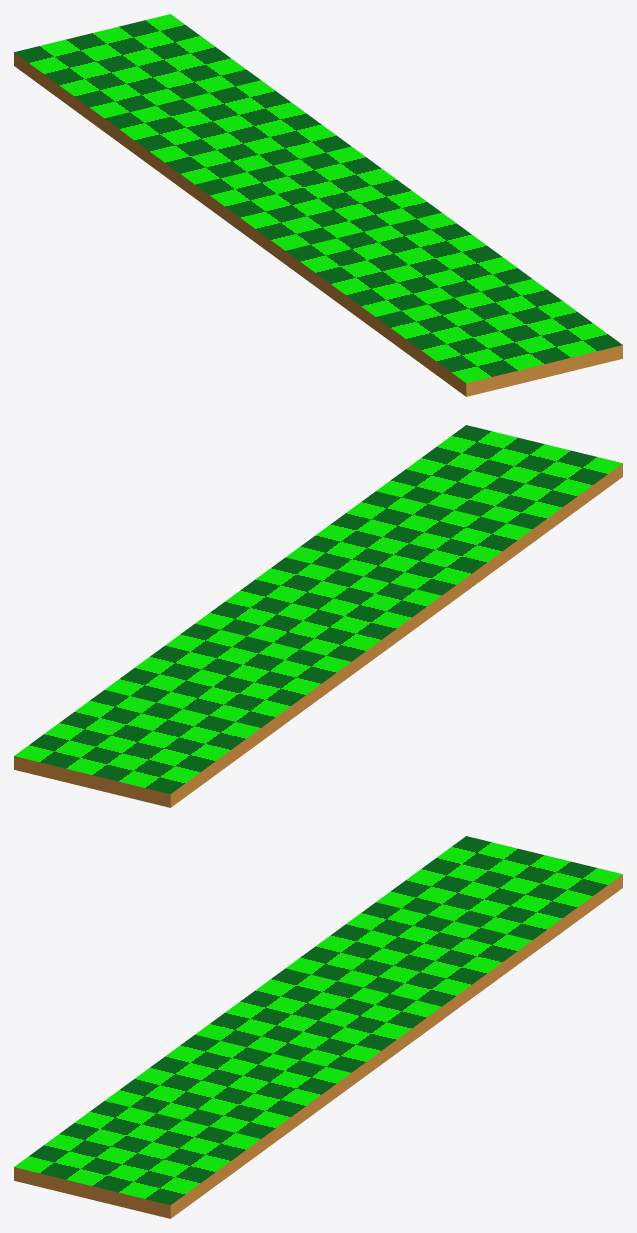
The picture shows the model from 3 angles, top to bottom: view 1: azimuth 30°, elevation 25°; view 2: azimuth 150°, elevation 25°; view 3: azimuth 330°, elevation 25°; orthographic projection.
Visible parts, largest first — view 1: Cube, Cube.003, Cube.002, Cube.004, Cube.001; view 2: Cube.003, Cube, Cube.002, Cube.001, Cube.004; view 3: Cube, Cube.003, Cube.002, Cube.004, Cube.001.
Part boxes in pixels (bbox=[...]): Cube: bbox=[376, 279, 622, 396]; Cube.003: bbox=[14, 14, 260, 131]; Cube.002: bbox=[195, 146, 441, 263]; Cube.004: bbox=[104, 80, 351, 197]; Cube.001: bbox=[285, 212, 531, 330]; Cube.003: bbox=[14, 690, 260, 807]; Cube: bbox=[376, 425, 622, 542]; Cube.002: bbox=[195, 557, 441, 674]; Cube.001: bbox=[285, 491, 532, 608]; Cube.004: bbox=[105, 623, 351, 741]; Cube: bbox=[14, 1101, 260, 1218]; Cube.003: bbox=[376, 836, 622, 953]; Cube.002: bbox=[195, 968, 441, 1085]; Cube.004: bbox=[285, 902, 532, 1019]; Cube.001: bbox=[105, 1034, 351, 1152].
Size of the model in its own units: 12 by 1 by 60.
Materials: 2 (2 with a texture image).
